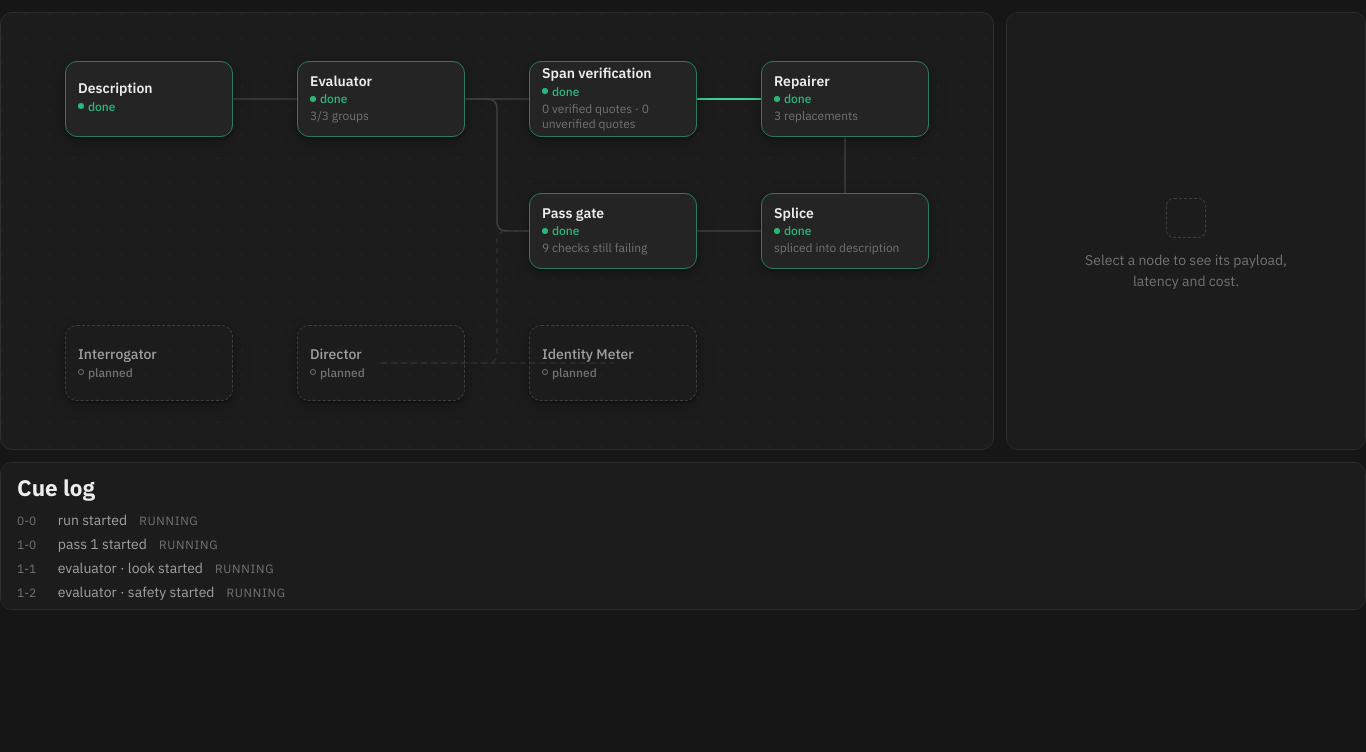
Scenario: ArchitectureScreen › opens the inspector with a node's real payload, latency and cost when clicked
This screenshot has width=1366, height=752.
Click the button with test id "node-evaluator" at (381, 99), box [297, 61, 465, 137]
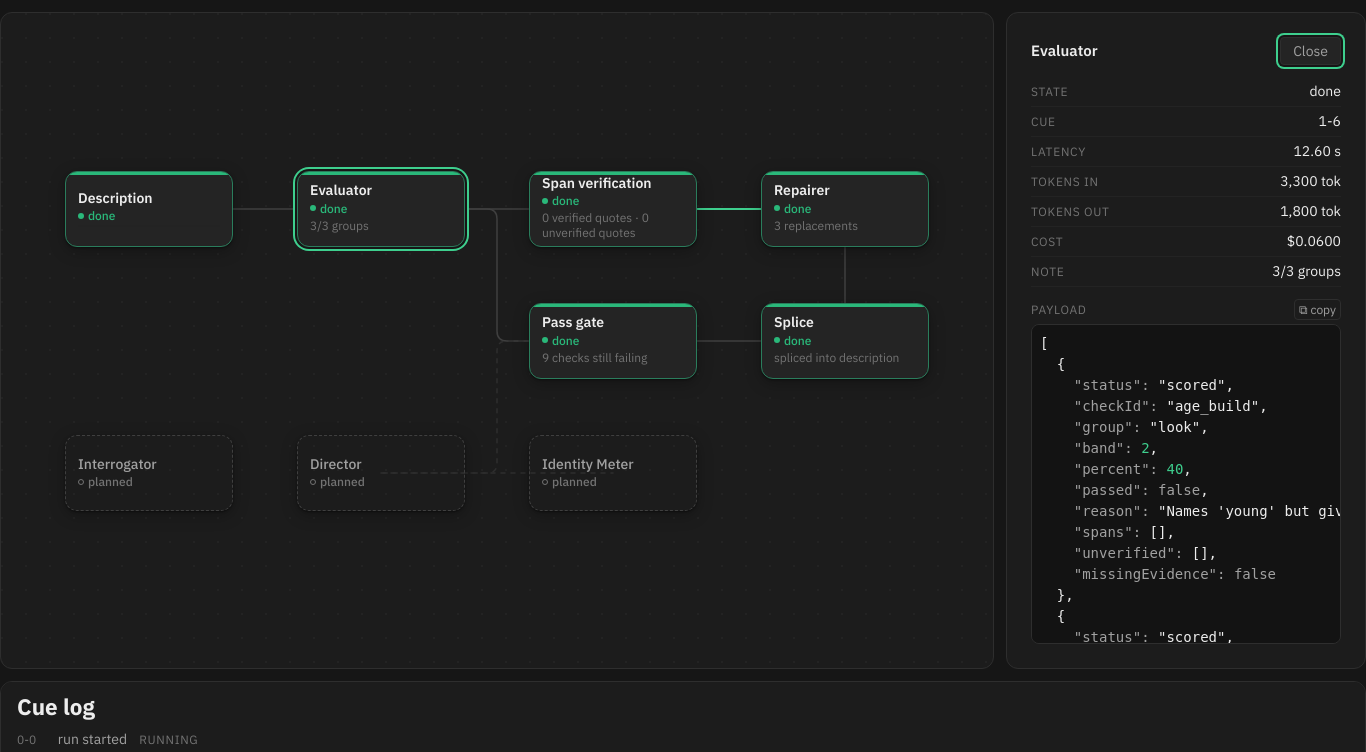
Now the text "3,300 tok" is shown, box [1280, 171, 1341, 192]
Now the text "1,800 tok" is shown, box [1280, 201, 1341, 222]
Now the text "$0.0600" is shown, box [1287, 231, 1341, 252]
